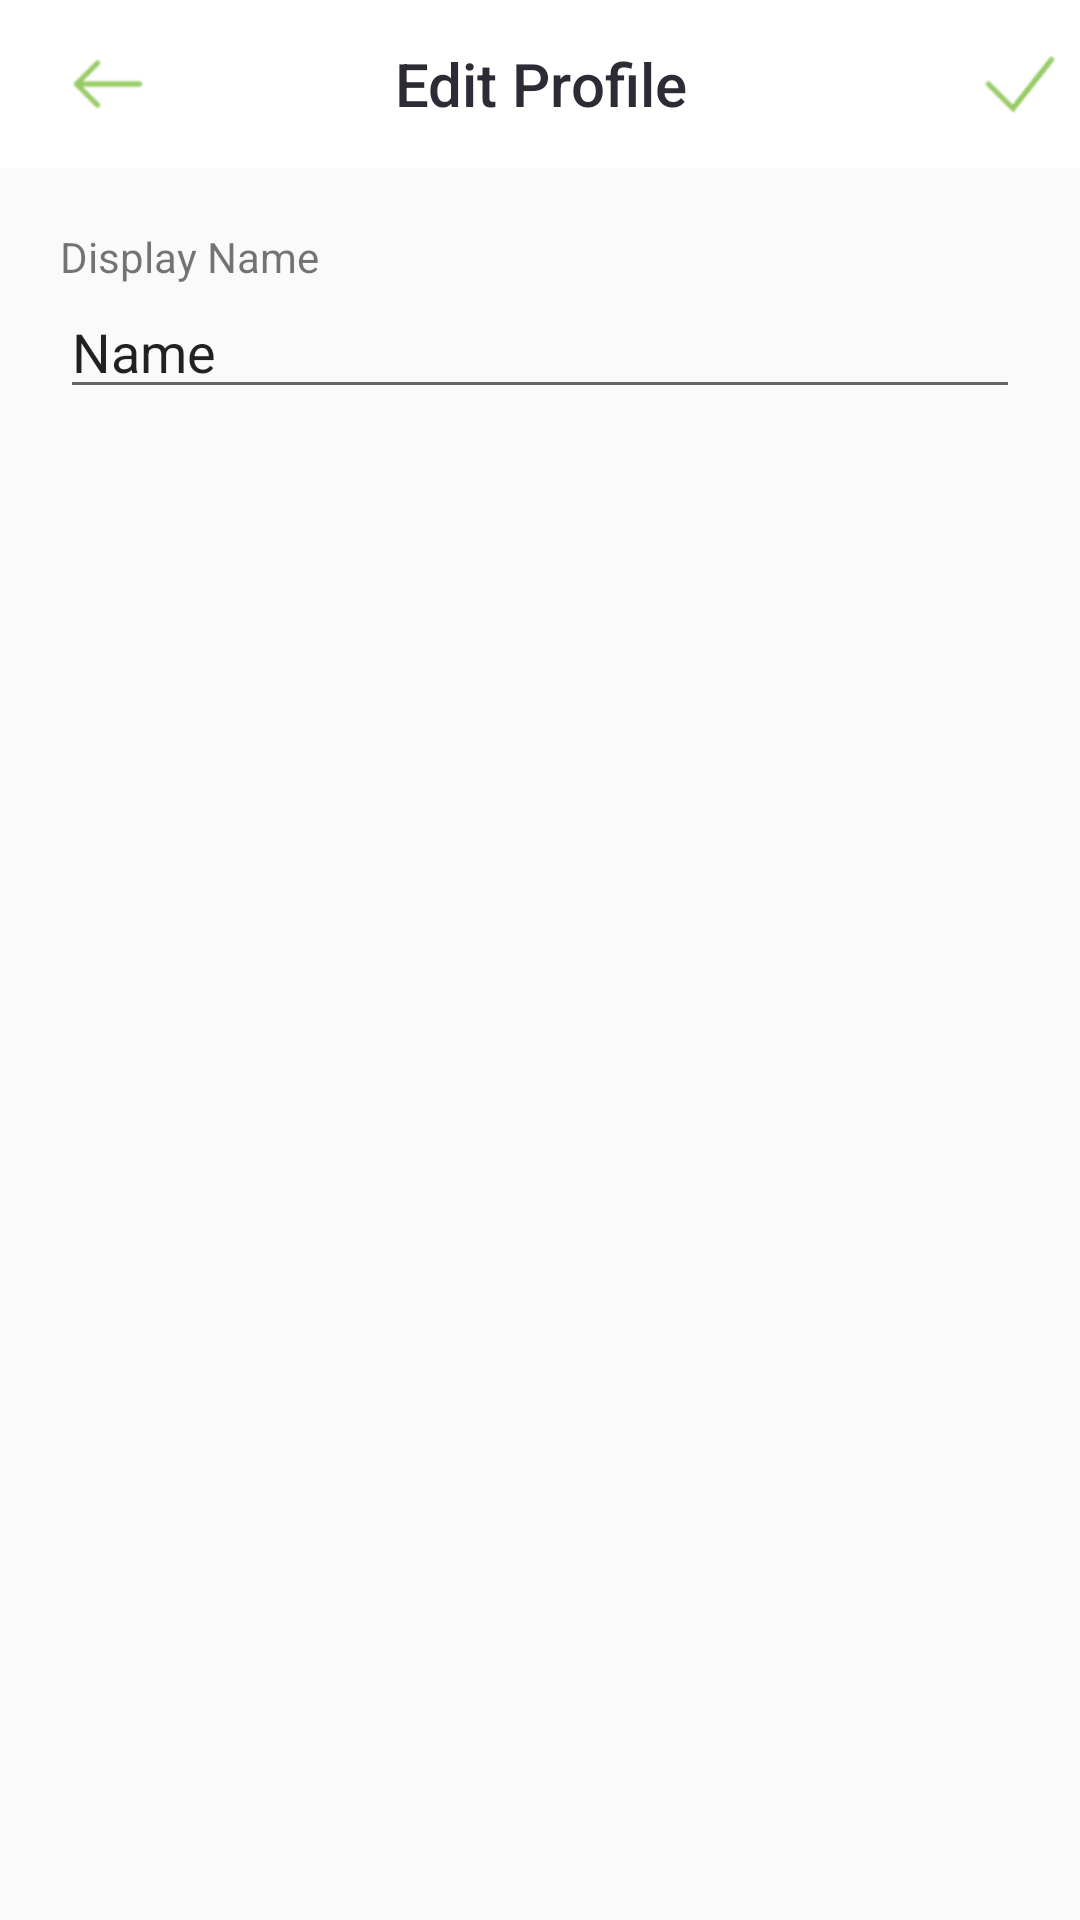

Locate icon controls on the screen. Image size 1080px×1920px, boxes as {"x1": x1, "y1": y1, "x2": x2, "y2": y2}.
back: {"x1": 73, "y1": 59, "x2": 143, "y2": 109}
check: {"x1": 985, "y1": 56, "x2": 1055, "y2": 113}
